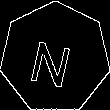N_N: (30, 28, 80, 87)
